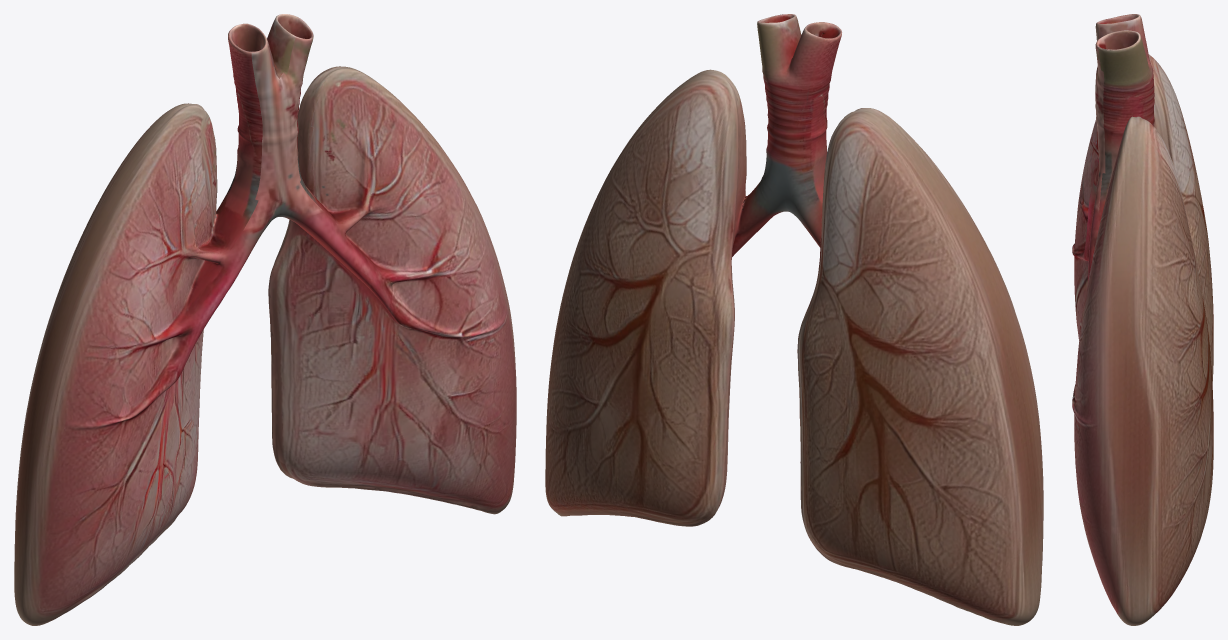
Rendered from vet_v2_organ_rabbit_lungs.glb.
The picture shows the model from 3 angles, left to right: view 1: azimuth 30°, elevation 25°; view 2: azimuth 150°, elevation 25°; view 3: azimuth 270°, elevation 25°; orthographic projection. The views are drawn at different scales.
Parts seen in each view (by area): view 1: model; view 2: model; view 3: model.
Part boxes in pixels (bbox=[...]): model: bbox=[14, 14, 516, 625]; model: bbox=[545, 14, 1043, 625]; model: bbox=[1072, 14, 1213, 625].
Size of the model in its own units: 1.79 by 1.9 by 0.4899.
Materials: 1 (1 with a texture image).
